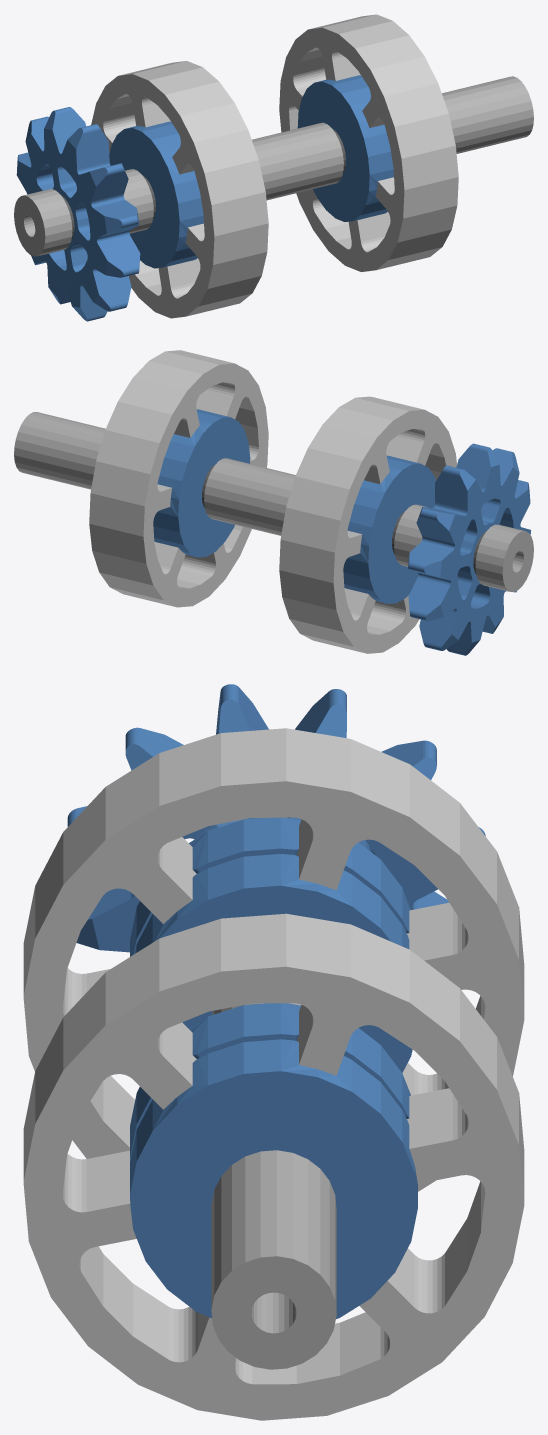
The model's file is roller_1.obj.
3 renders of one model, top to bottom at view 1: azimuth 30°, elevation 25°; view 2: azimuth 150°, elevation 25°; view 3: azimuth 270°, elevation 25°, orthographic. The views are drawn at different scales.
Size of the model in its own units: 0.1143 by 0.0507 by 0.0507.
